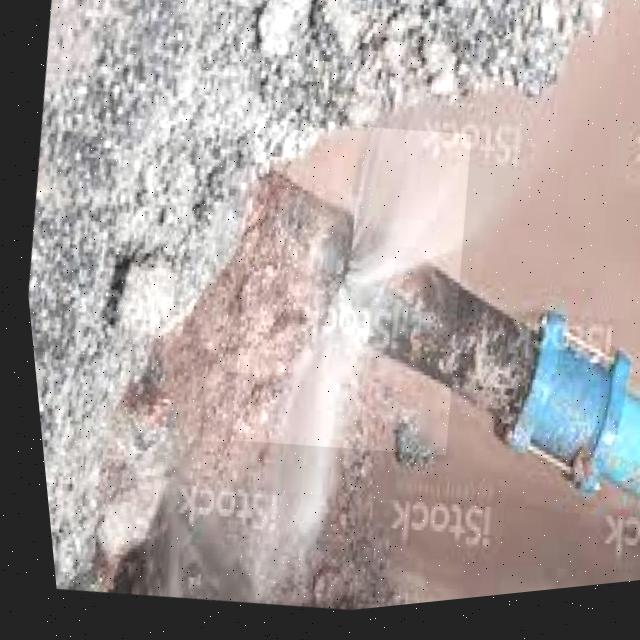corrosion: (206, 141, 477, 424)
